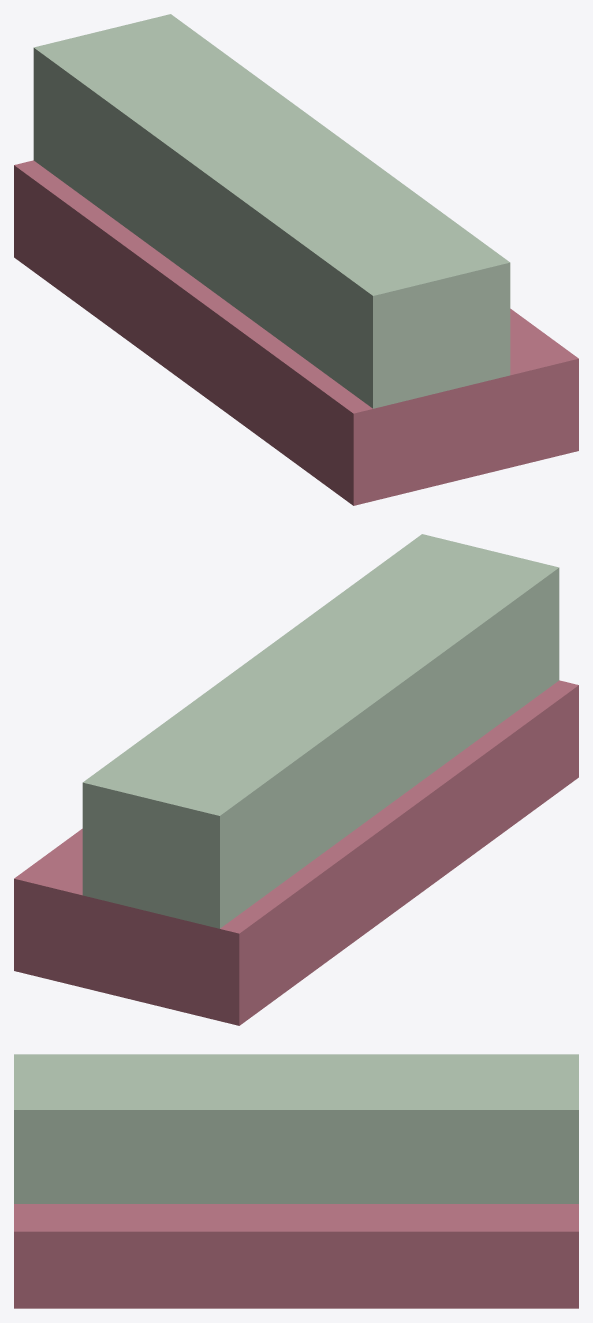
File: 199523_pred.glb
The picture shows the model from 3 angles, top to bottom: view 1: azimuth 30°, elevation 25°; view 2: azimuth 150°, elevation 25°; view 3: azimuth 270°, elevation 25°; orthographic projection. The views are drawn at different scales.
Visible parts, largest first — view 1: world; view 2: world; view 3: world.
Boxes of the visible parts, x1=… form: world: x1=14, y1=14, x2=578, y2=505; world: x1=14, y1=534, x2=578, y2=1025; world: x1=14, y1=1054, x2=578, y2=1308.
Size of the model in its own units: 2.3 by 2 by 6.
